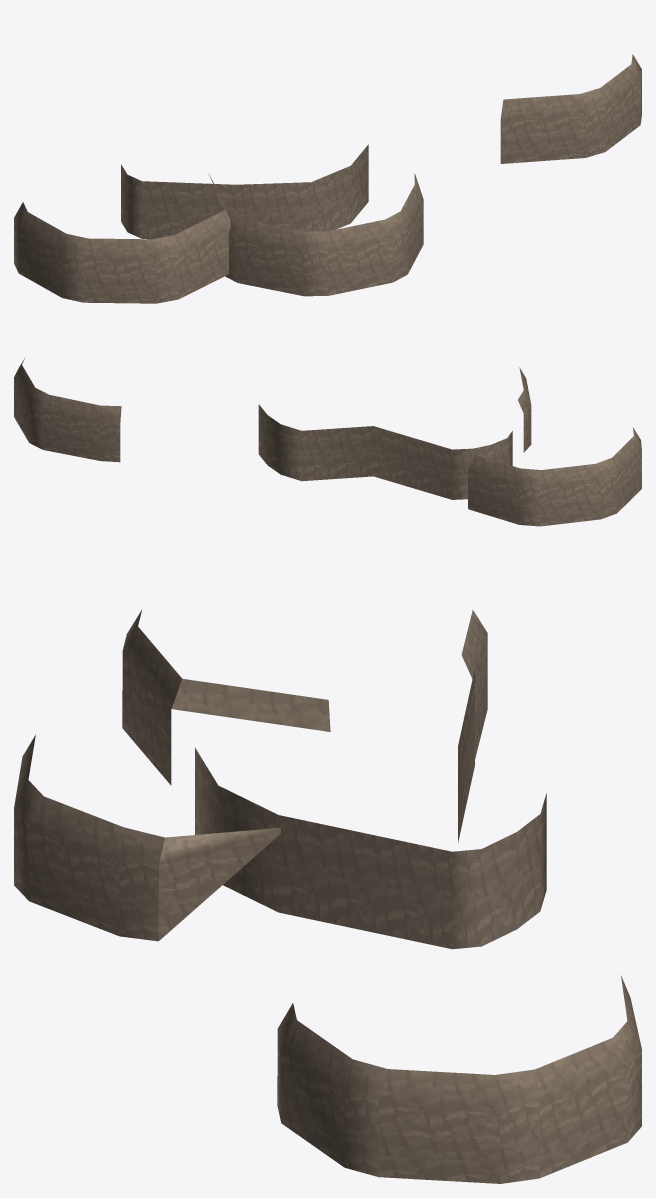
The model's file is kd_connection_world-outer_surface_18_1.glb.
The picture shows the model from 3 angles, top to bottom: view 1: azimuth 30°, elevation 25°; view 2: azimuth 150°, elevation 25°; view 3: azimuth 270°, elevation 25°; orthographic projection. The views are drawn at different scales.
Visible parts, largest first — view 1: kd_connection_world-outer_surface_18_1; view 2: kd_connection_world-outer_surface_18_1; view 3: kd_connection_world-outer_surface_18_1.
Part boxes in pixels (x1,y1,x2,y2): kd_connection_world-outer_surface_18_1: (14, 54, 641, 303); kd_connection_world-outer_surface_18_1: (14, 357, 641, 526); kd_connection_world-outer_surface_18_1: (14, 609, 641, 1183).
Bounding box in the file's own units: 441 × 44.78 × 222.
1 material, 1 textured.
